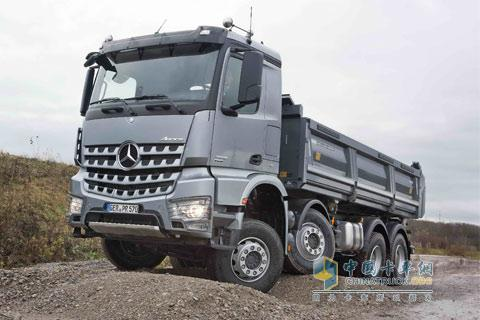truck: (59, 14, 430, 289)
